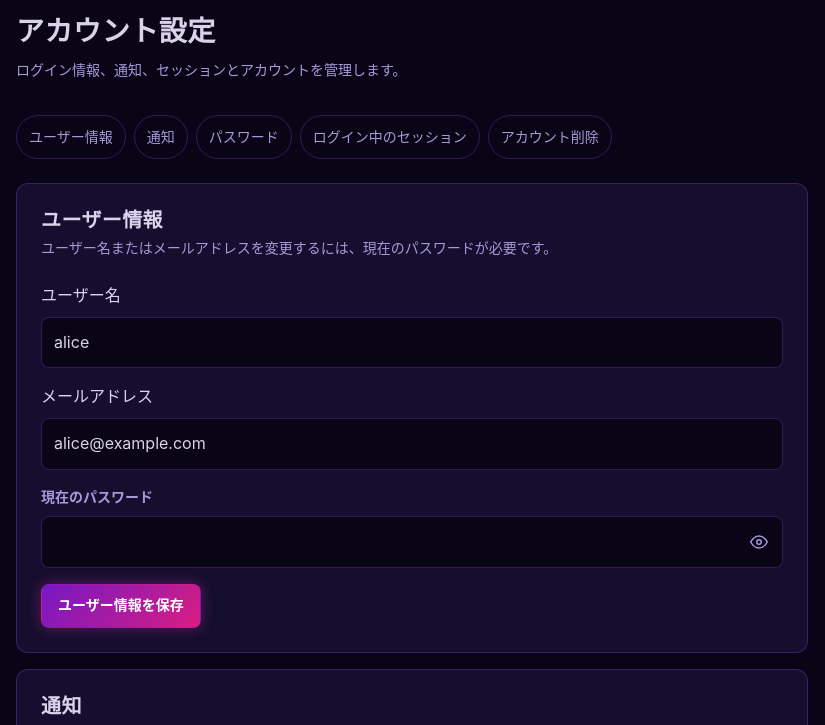
SettingsPage › 現在のパスワード付きでユーザー情報を更新する
Replace the text in the field labelled "ユーザー名" with "renamed". click: (412, 343)
box: [41,317,783,368]
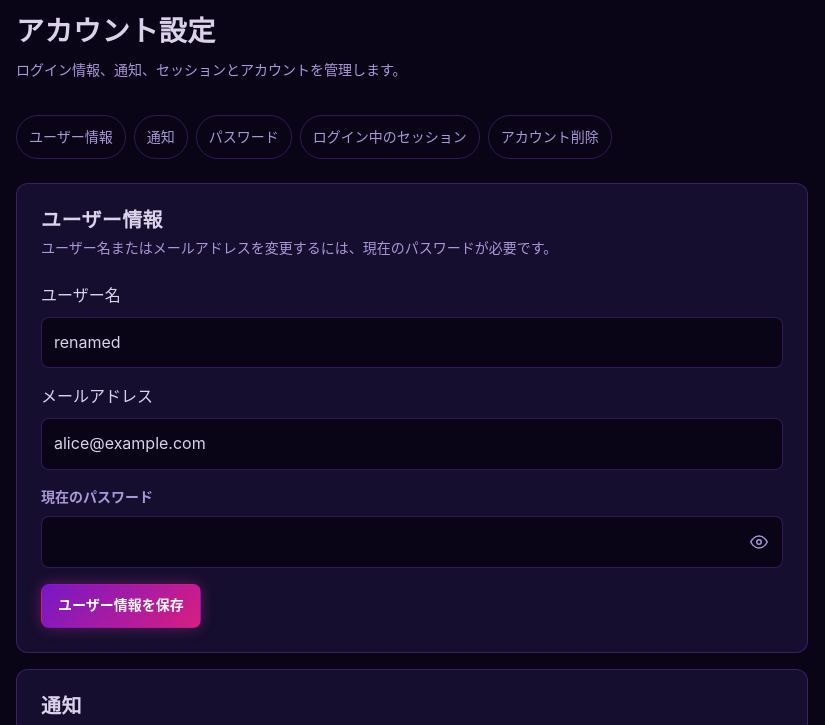
Type "current-pass" into the password field labelled "現在のパスワード". click: (412, 542)
box: [41,516,783,568]
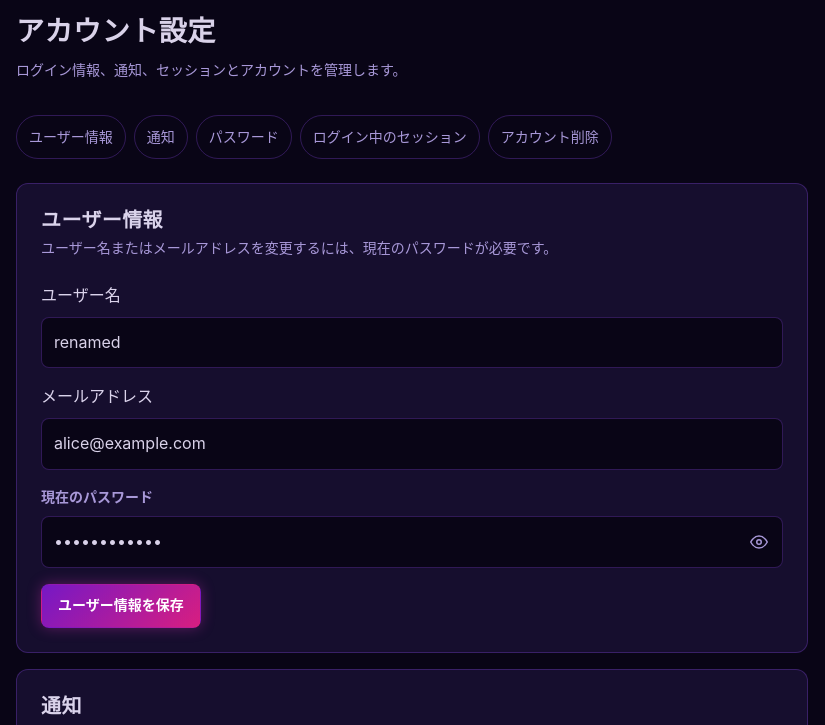
Click the button "ユーザー情報を保存". click: click(121, 606)
box: [41,584,201,628]
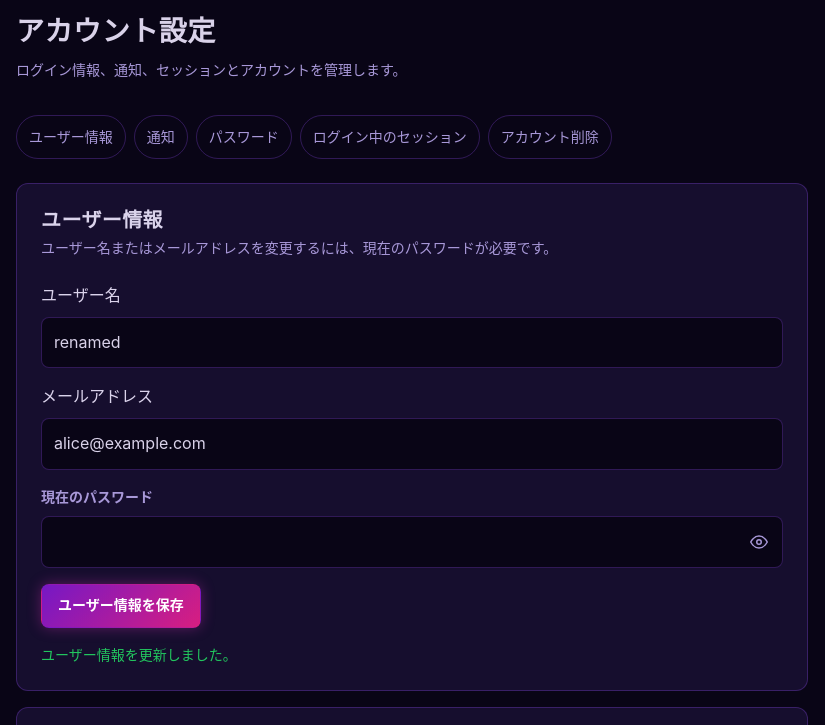
Expected: the message shows "ユーザー情報を更新しました", [41,646,237,663]
